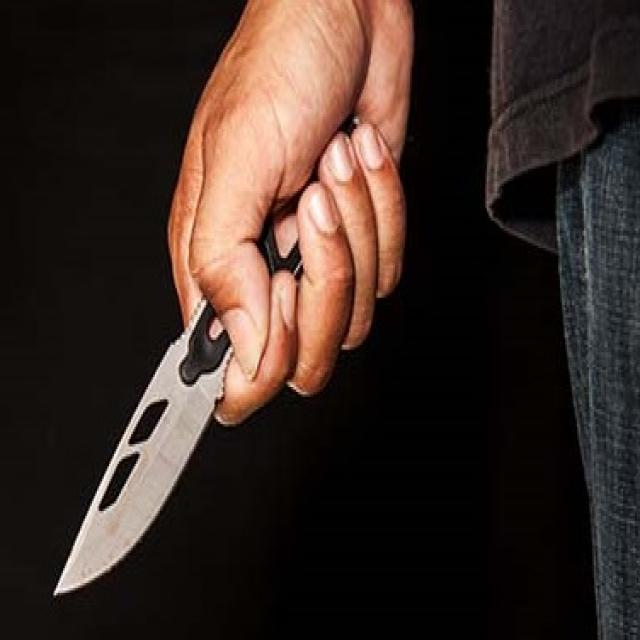knife: (45, 110, 369, 608)
